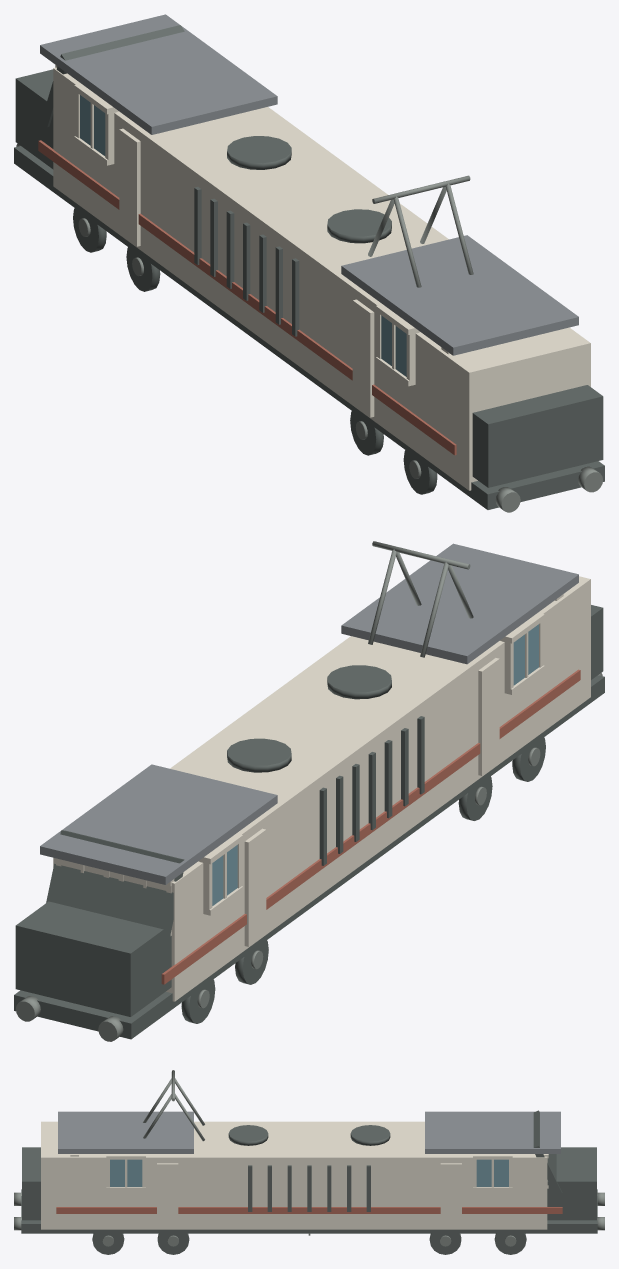
The model's file is tyne-class91_lod0.glb.
3 views of the same model, one above another, from view 1: azimuth 30°, elevation 25°; view 2: azimuth 150°, elevation 25°; view 3: azimuth 270°, elevation 25° (orthographic). The views are drawn at different scales.
Parts seen in each view (by area): view 1: RF_EngineBody, RF_CabRoof.001, RF_CabRoof, RF_Nose.001, RF_Chassis, RF_BodyStripe.001, RF_Nose, RF_CabDoor.001, RF_CabDoor.003, RF_RoofFan, RF_RoofFan.001, RF_RakedCab (+7 smaller); view 2: RF_EngineBody, RF_CabRoof, RF_CabRoof.001, RF_Nose, RF_Chassis, RF_RakedCab, RF_BodyStripe.001, RF_CabDoor.003, RF_CabDoor.001, RF_RoofFan, RF_RoofFan.001, RF_Window.003 (+7 smaller); view 3: RF_EngineBody, RF_CabRoof.001, RF_CabRoof, RF_Chassis, RF_Nose, RF_BodyStripe, RF_CabDoor.002, RF_CabDoor, RF_Nose.001, RF_Window.004, RF_Window, RF_RoofFan.001 (+6 smaller).
Part boxes in pixels (box(x1,y1,x2,y2)): RF_EngineBody: box(53, 67, 590, 490); RF_CabRoof.001: box(341, 235, 578, 355); RF_CabRoof: box(40, 14, 277, 134); RF_Nose.001: box(472, 385, 603, 487); RF_Chassis: box(14, 146, 604, 509); RF_BodyStripe.001: box(38, 140, 456, 455); RF_Nose: box(15, 69, 53, 169); RF_CabDoor.001: box(352, 299, 374, 417); RF_CabDoor.003: box(119, 128, 140, 246); RF_RoofFan: box(227, 136, 291, 169); RF_RoofFan.001: box(327, 209, 391, 243); RF_RakedCab: box(42, 25, 184, 126); RF_EngineBody: box(53, 576, 590, 1001); RF_CabRoof: box(40, 764, 277, 884); RF_CabRoof.001: box(341, 543, 578, 664); RF_Nose: box(15, 901, 171, 1016); RF_Chassis: box(14, 675, 604, 1039); RF_RakedCab: box(46, 830, 184, 952); RF_BodyStripe.001: box(161, 669, 580, 984); RF_CabDoor.003: box(244, 828, 266, 946); RF_CabDoor.001: box(478, 658, 499, 775); RF_RoofFan: box(227, 738, 291, 772); RF_RoofFan.001: box(327, 665, 391, 699); RF_Window.003: box(513, 624, 538, 685); RF_EngineBody: box(41, 1121, 547, 1229); RF_CabRoof.001: box(58, 1111, 193, 1153); RF_CabRoof: box(425, 1111, 560, 1153); RF_Chassis: box(21, 1189, 597, 1233); RF_Nose: box(547, 1147, 596, 1220); RF_BodyStripe: box(56, 1207, 562, 1213); RF_CabDoor.002: box(157, 1163, 178, 1227); RF_CabDoor: box(440, 1163, 461, 1227); RF_Nose.001: box(22, 1147, 40, 1220); RF_Window.004: box(110, 1159, 142, 1186); RF_Window: box(476, 1159, 508, 1186); RF_RoofFan.001: box(228, 1125, 268, 1145).
Size of the model in its own units: 3.14 by 5.56 by 19.38.
